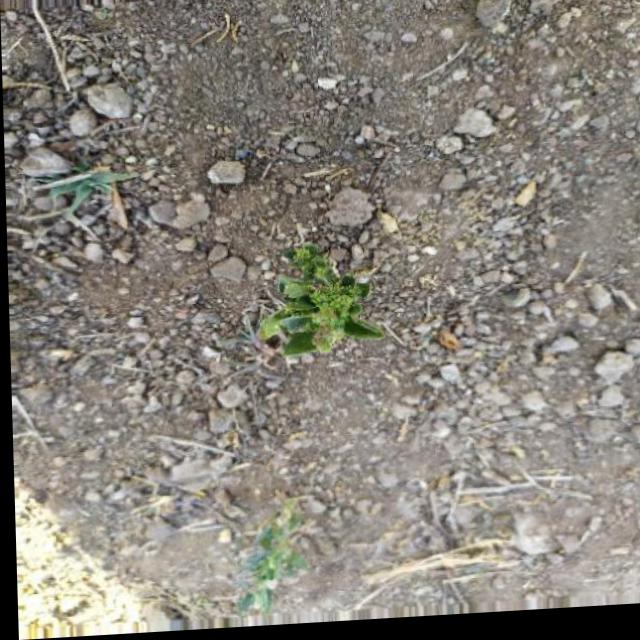weed: (263, 248, 366, 355)
